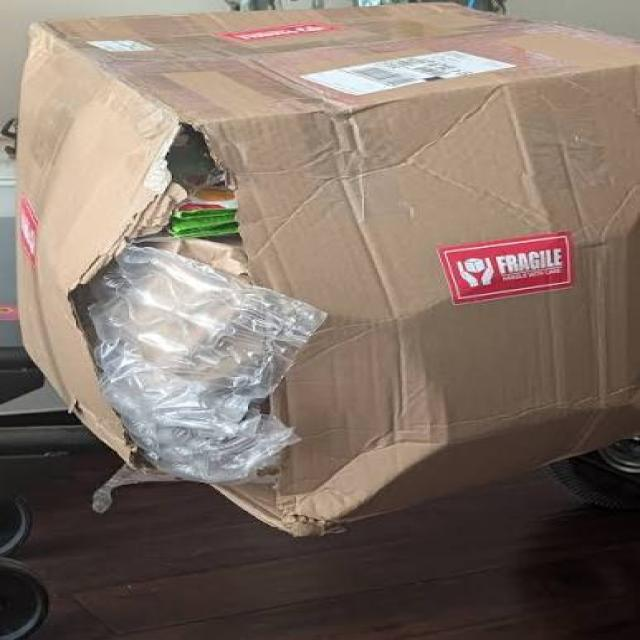carton_box: (1, 0, 640, 550)
export_mark_label: (303, 42, 536, 98)
fragile_label: (418, 223, 596, 310)
package_damage: (58, 92, 360, 541)
